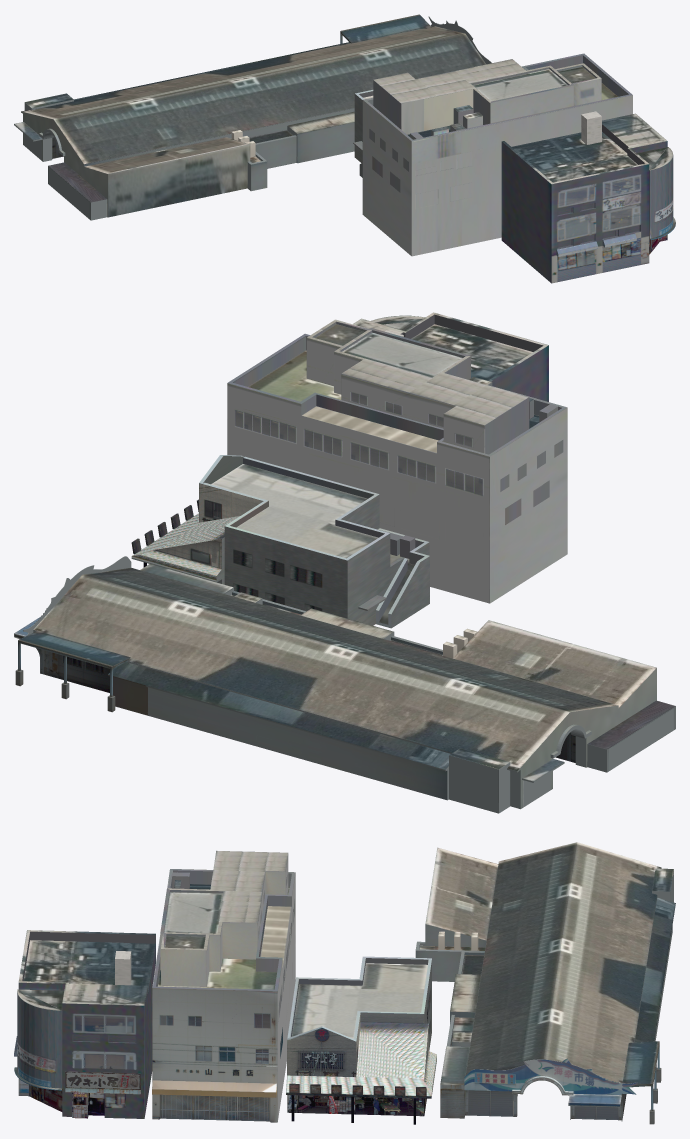
The model's file is cp10_integrated.fbx.
3 renders of one model, top to bottom at view 1: azimuth 30°, elevation 25°; view 2: azimuth 150°, elevation 25°; view 3: azimuth 270°, elevation 25°, orthographic. The views are drawn at different scales.
Visible parts, largest first — view 1: bldg_215ee526_0dff_4737_b5c5_c596a4e052d1, bldg_7ab46bf2_3196_47b7_813c_8ffccbf121f0, bldg_31387b83_eb0c_4e8c_b14a_c1d06ab5b4ba, bldg_1de2837e_6949_44ad_bdd8_f455d3c6a86a; view 2: bldg_215ee526_0dff_4737_b5c5_c596a4e052d1, bldg_7ab46bf2_3196_47b7_813c_8ffccbf121f0, bldg_1de2837e_6949_44ad_bdd8_f455d3c6a86a, bldg_31387b83_eb0c_4e8c_b14a_c1d06ab5b4ba; view 3: bldg_215ee526_0dff_4737_b5c5_c596a4e052d1, bldg_7ab46bf2_3196_47b7_813c_8ffccbf121f0, bldg_31387b83_eb0c_4e8c_b14a_c1d06ab5b4ba, bldg_1de2837e_6949_44ad_bdd8_f455d3c6a86a.
Part boxes in pixels (x1,y1,x2,y2): bldg_215ee526_0dff_4737_b5c5_c596a4e052d1: (14,14,491,220); bldg_7ab46bf2_3196_47b7_813c_8ffccbf121f0: (362,53,632,256); bldg_31387b83_eb0c_4e8c_b14a_c1d06ab5b4ba: (501,111,675,283); bldg_1de2837e_6949_44ad_bdd8_f455d3c6a86a: (353,90,373,177); bldg_215ee526_0dff_4737_b5c5_c596a4e052d1: (14,556,675,813); bldg_7ab46bf2_3196_47b7_813c_8ffccbf121f0: (227,319,567,603); bldg_1de2837e_6949_44ad_bdd8_f455d3c6a86a: (131,455,429,628); bldg_31387b83_eb0c_4e8c_b14a_c1d06ab5b4ba: (353,312,548,401); bldg_215ee526_0dff_4737_b5c5_c596a4e052d1: (415,842,675,1124); bldg_7ab46bf2_3196_47b7_813c_8ffccbf121f0: (152,850,295,1122); bldg_31387b83_eb0c_4e8c_b14a_c1d06ab5b4ba: (14,930,155,1118); bldg_1de2837e_6949_44ad_bdd8_f455d3c6a86a: (286,956,436,1124).
Size of the model in its own units: 5205 by 1546 by 5943.
